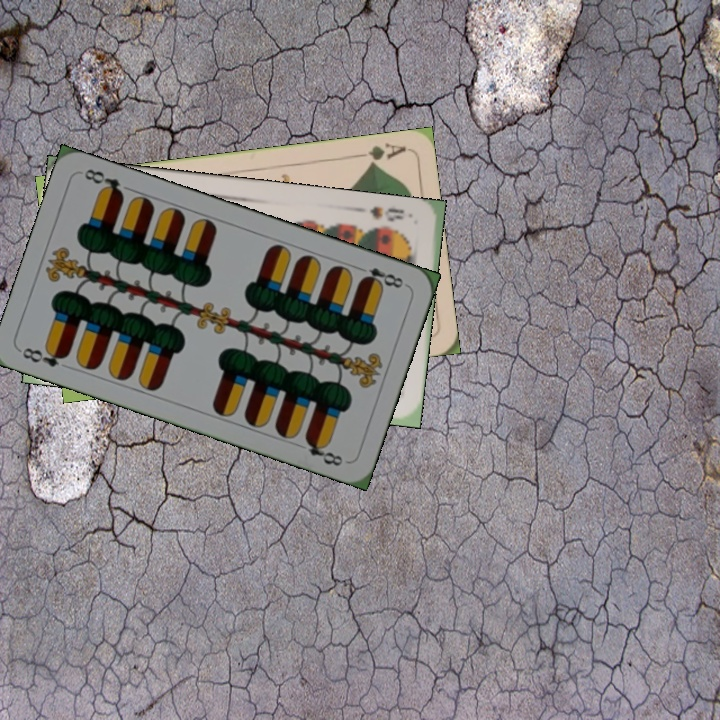E8: (352, 262, 409, 291), (18, 343, 71, 370)
GA: (350, 139, 409, 169)
S8: (366, 202, 407, 224)
